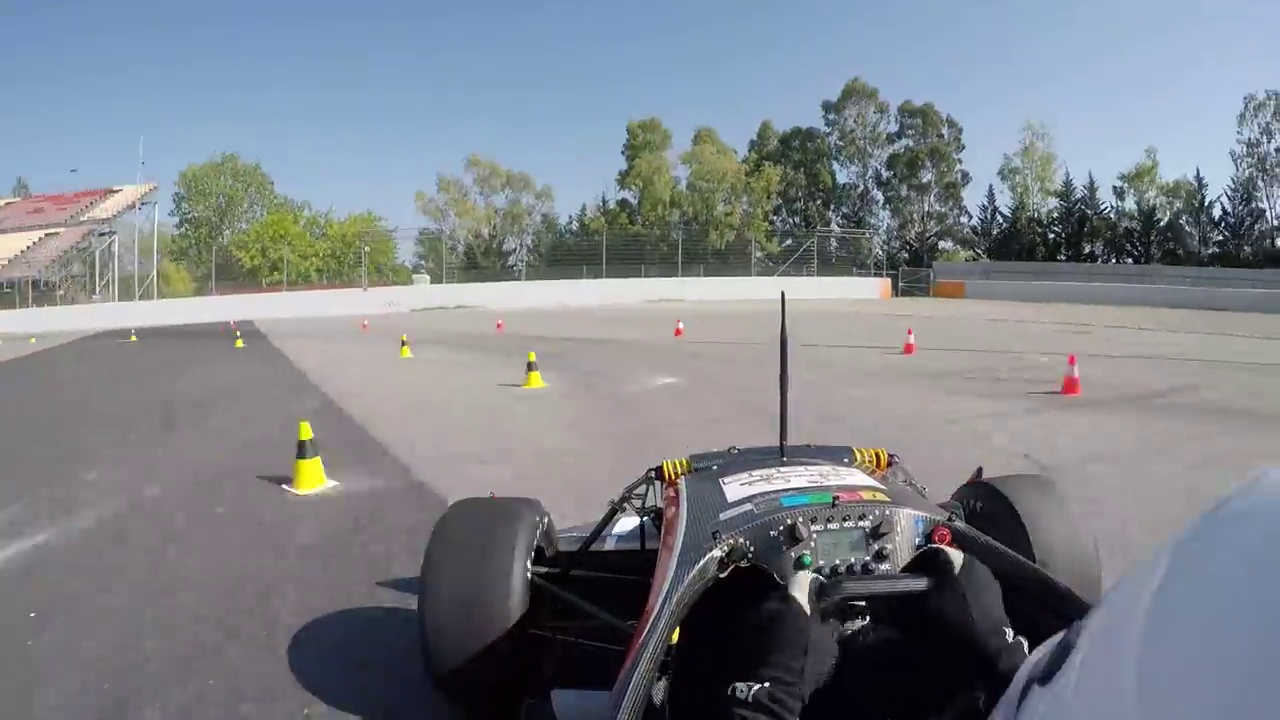Cone: (284, 417, 334, 495), (518, 349, 547, 391), (1062, 353, 1084, 394)
